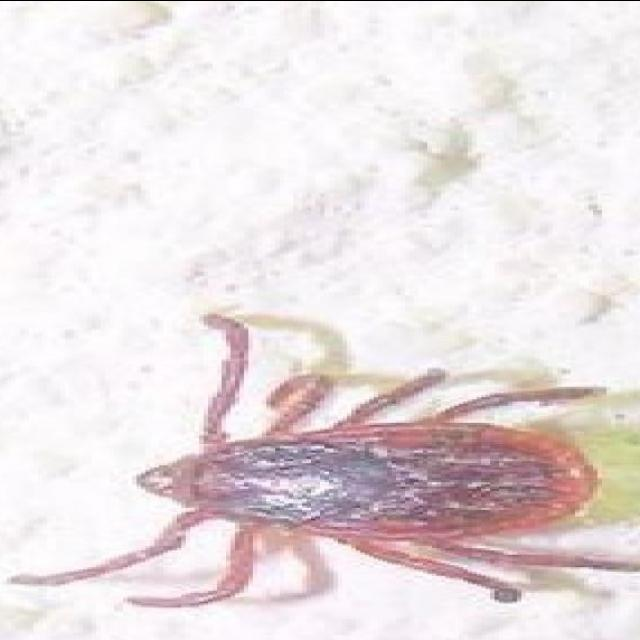Rhipicephalus Sanguineus-F: (65, 316, 640, 611)
